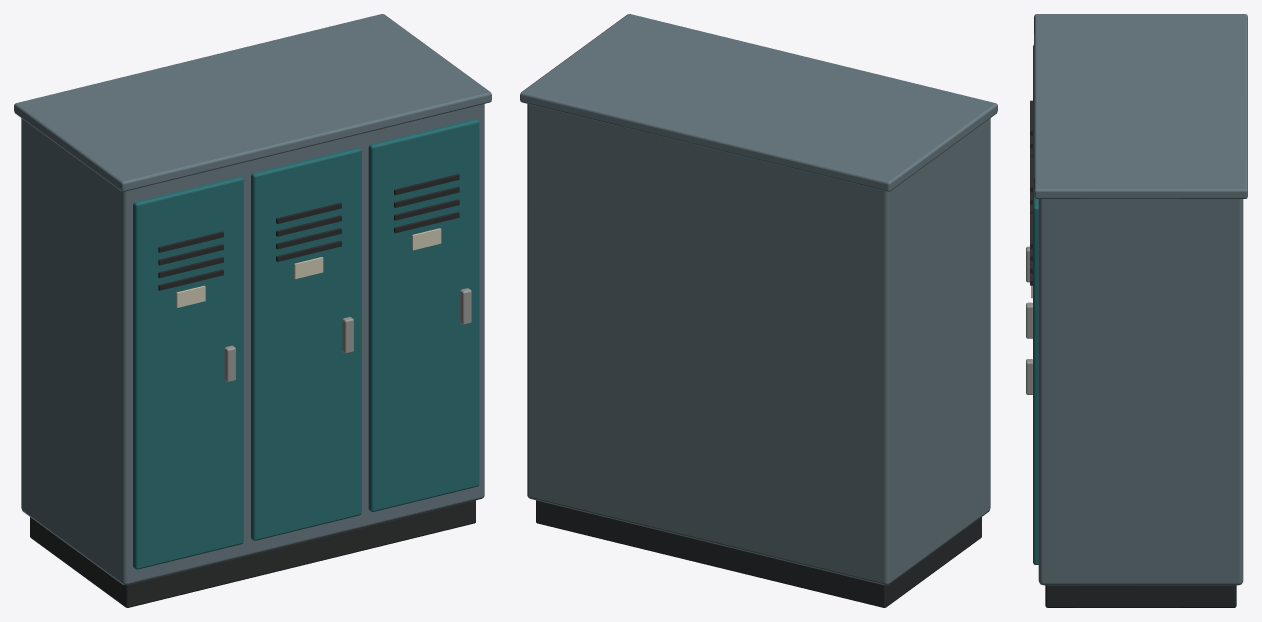
The model's file is locker.glb.
3 renders of one model, left to right at view 1: azimuth 30°, elevation 25°; view 2: azimuth 150°, elevation 25°; view 3: azimuth 270°, elevation 25°, orthographic. The views are drawn at different scales.
Visible parts, largest first — view 1: paint-teal, paint-slate, steel-dark, paint-ivory, steel; view 2: paint-slate, steel-dark; view 3: paint-slate, steel-dark, paint-teal, steel.
Part boxes in pixels (<box>): paint-teal: <box>133,118,479,569</box>; paint-slate: <box>14,14,491,585</box>; steel-dark: <box>30,174,475,607</box>; paint-ivory: <box>176,228,441,307</box>; steel: <box>224,288,471,382</box>; paint-slate: <box>520,14,997,585</box>; steel-dark: <box>536,500,981,607</box>; paint-slate: <box>1034,14,1247,585</box>; steel-dark: <box>1030,100,1236,607</box>; paint-teal: <box>1033,45,1038,564</box>; steel: <box>1026,246,1032,394</box>.
Size of the model in its own units: 1.84 by 2.06 by 0.9755.
